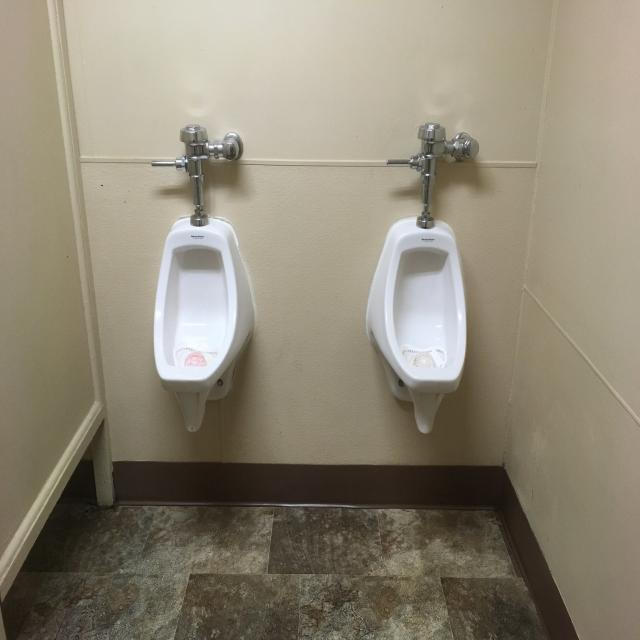dirty_floor: (5, 1, 636, 637), (7, 498, 556, 638), (106, 458, 514, 510)
